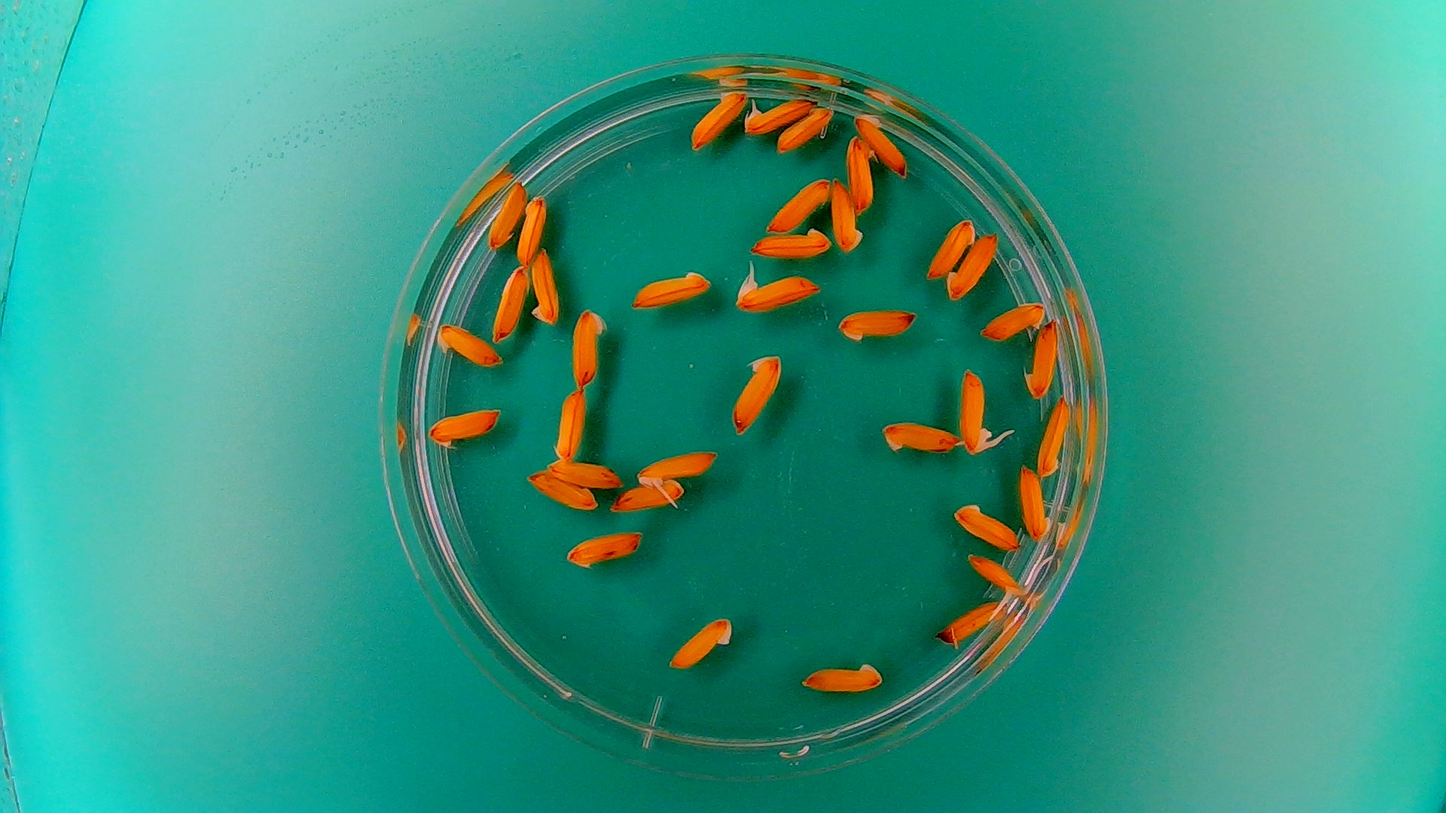no: (727, 349, 785, 437), (626, 264, 714, 312), (667, 612, 736, 671), (944, 230, 999, 302), (763, 175, 830, 234), (426, 403, 505, 453), (689, 86, 749, 151), (853, 110, 909, 178), (950, 498, 1021, 551), (796, 656, 888, 696), (935, 597, 1002, 650), (557, 531, 645, 571), (569, 303, 609, 390), (523, 468, 600, 513), (835, 303, 919, 344), (877, 416, 962, 455), (433, 320, 502, 368), (490, 263, 531, 343), (775, 102, 837, 154), (926, 215, 975, 279), (1022, 315, 1059, 399), (748, 224, 834, 260), (979, 297, 1046, 342), (1035, 393, 1070, 479), (1017, 462, 1054, 543), (485, 178, 526, 251), (545, 455, 626, 490), (528, 245, 562, 327), (830, 177, 865, 255), (551, 385, 587, 460), (608, 479, 684, 514), (514, 190, 548, 266), (844, 132, 875, 215)
yes: (729, 265, 823, 314), (958, 365, 996, 457), (633, 452, 727, 489), (964, 549, 1025, 601), (740, 94, 815, 136)
